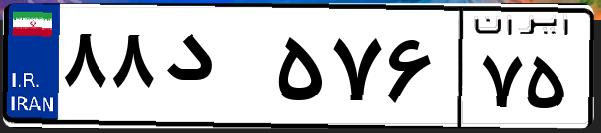5: (270, 28, 330, 110), (525, 38, 570, 115)
6: (385, 28, 445, 110)
7: (330, 28, 385, 110), (475, 38, 525, 113)
8: (57, 26, 110, 100), (110, 28, 158, 98)
د: (158, 20, 270, 120)
